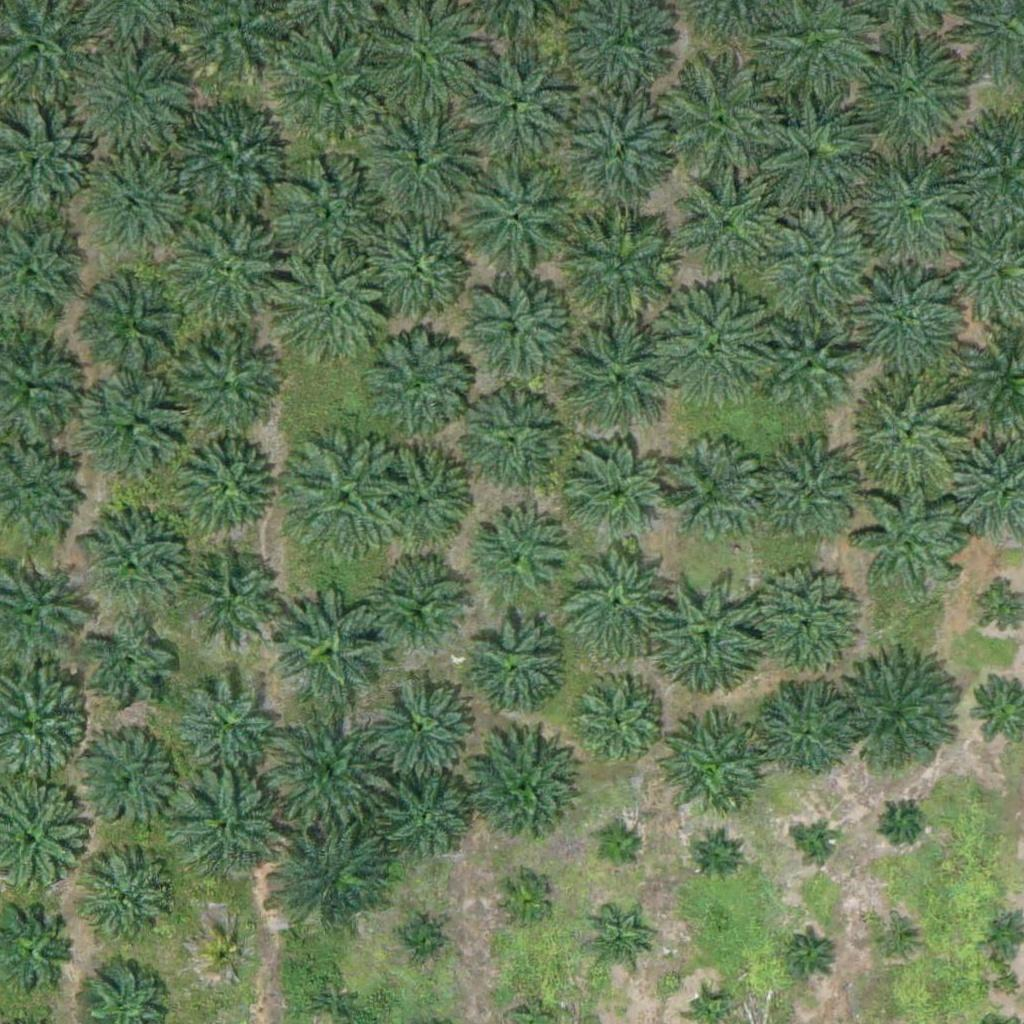Kelapa_Sawit: (70, 43, 195, 169), (168, 96, 293, 222), (164, 207, 289, 333), (272, 252, 397, 378), (265, 154, 390, 280), (359, 95, 484, 221), (355, 202, 480, 328), (351, 323, 476, 449), (453, 273, 578, 399), (453, 156, 578, 282), (559, 203, 684, 329), (558, 319, 683, 445), (656, 59, 781, 185), (746, 93, 871, 219), (754, 215, 879, 341), (841, 266, 966, 392), (849, 152, 974, 278), (844, 31, 969, 157), (647, 573, 772, 699), (555, 539, 680, 665), (280, 434, 405, 560), (265, 704, 390, 830), (273, 815, 398, 941), (459, 39, 584, 164), (559, 90, 684, 215), (654, 286, 779, 411), (843, 654, 968, 779), (464, 735, 577, 849), (855, 481, 968, 594), (744, 567, 857, 680), (173, 773, 286, 886), (78, 508, 191, 621), (365, 665, 477, 779), (275, 585, 387, 699), (80, 268, 192, 381), (169, 334, 281, 447), (856, 376, 968, 489), (653, 717, 765, 830), (280, 31, 380, 132), (679, 177, 779, 278), (754, 678, 854, 779), (760, 443, 860, 544), (659, 442, 759, 543), (569, 445, 669, 546), (568, 672, 668, 773), (457, 392, 557, 493), (469, 508, 569, 609), (371, 441, 471, 542), (177, 674, 277, 775), (81, 620, 181, 721), (76, 729, 176, 830), (92, 163, 192, 263), (461, 617, 561, 717), (374, 556, 474, 656), (174, 436, 274, 536), (183, 544, 283, 644), (86, 380, 186, 480), (87, 858, 175, 947), (383, 776, 471, 864), (764, 325, 851, 414), (585, 915, 648, 978), (491, 869, 554, 932), (392, 915, 442, 966), (692, 830, 742, 880), (786, 928, 836, 978), (593, 825, 643, 875), (203, 932, 253, 982), (883, 800, 921, 838), (800, 826, 837, 864), (877, 924, 914, 962)
